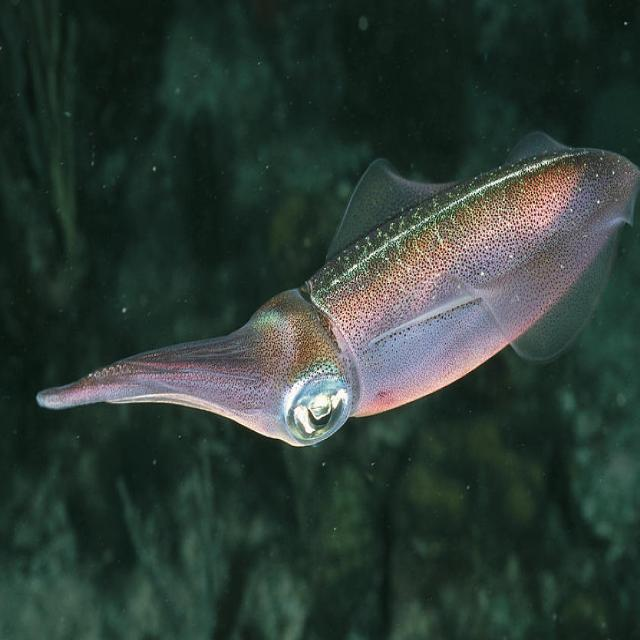SQUID: (17, 113, 640, 466)
